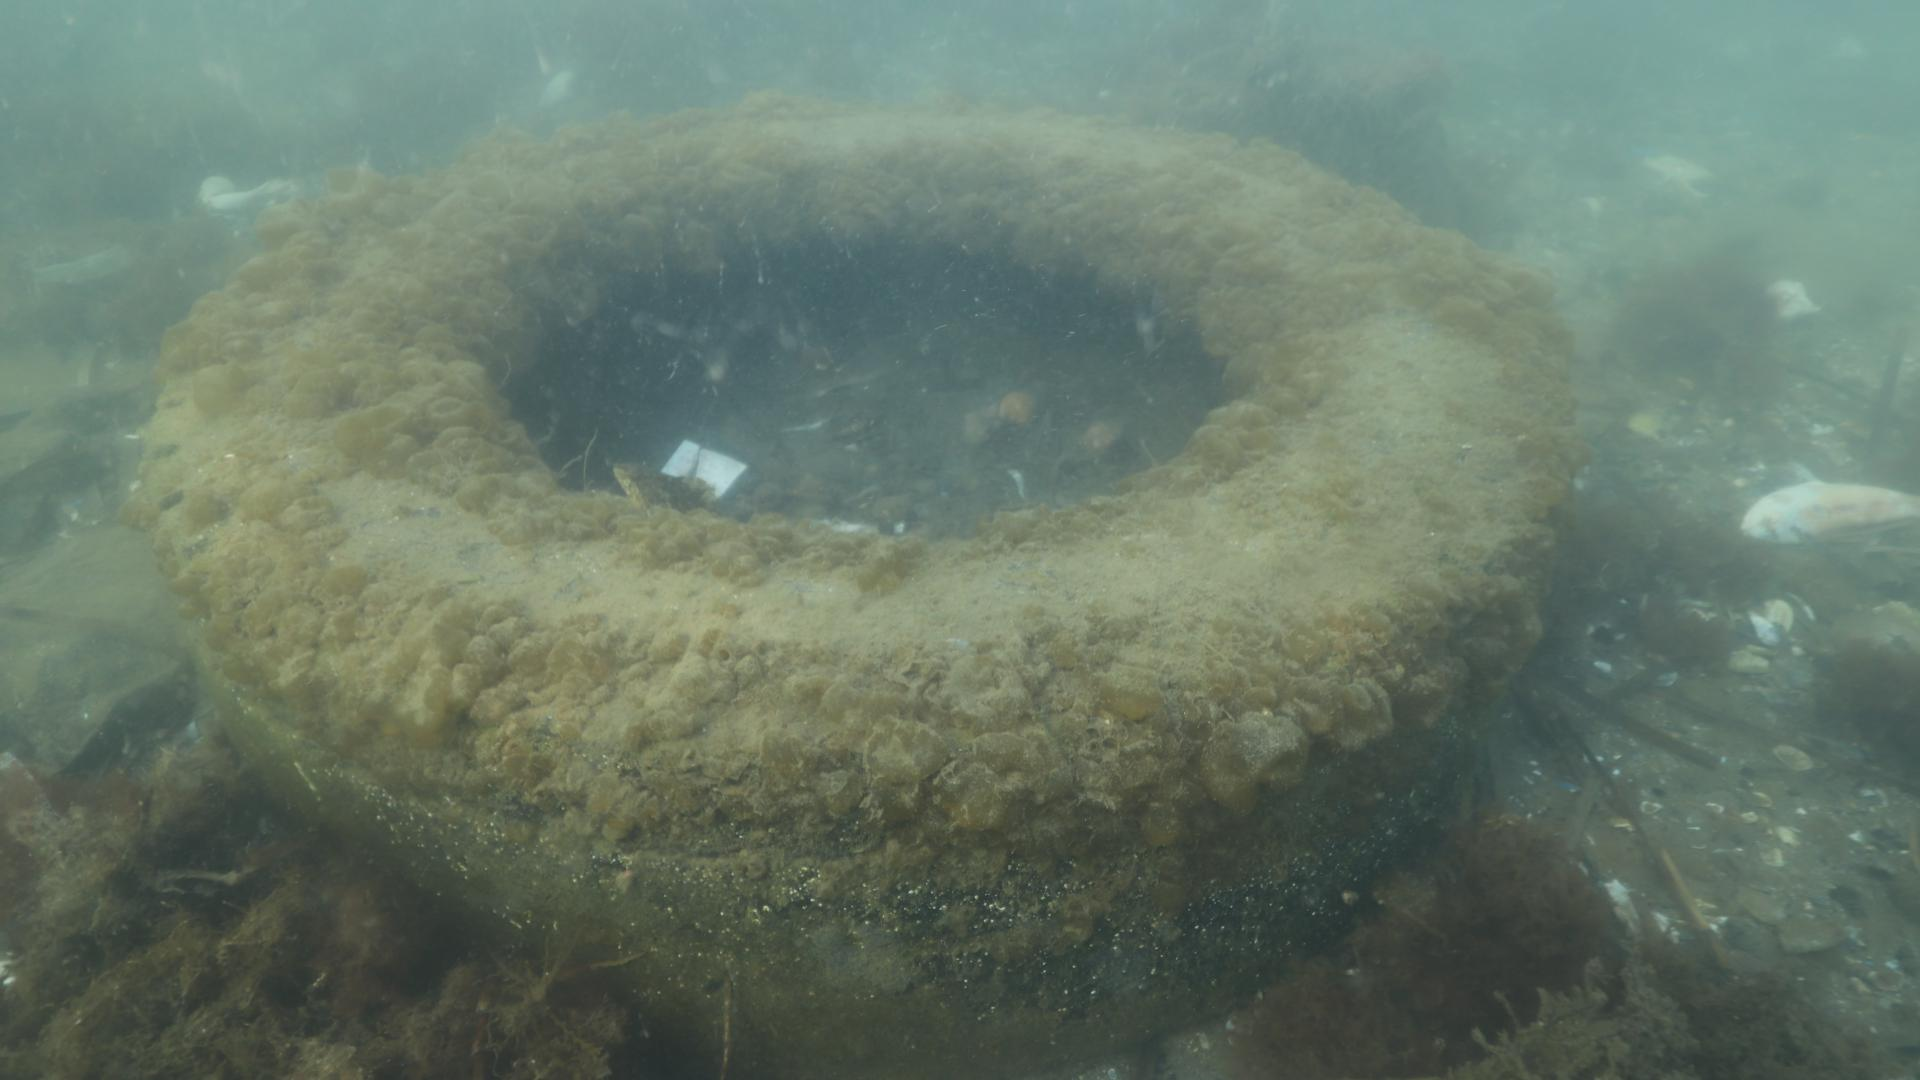tire: (140, 94, 1560, 1073)
